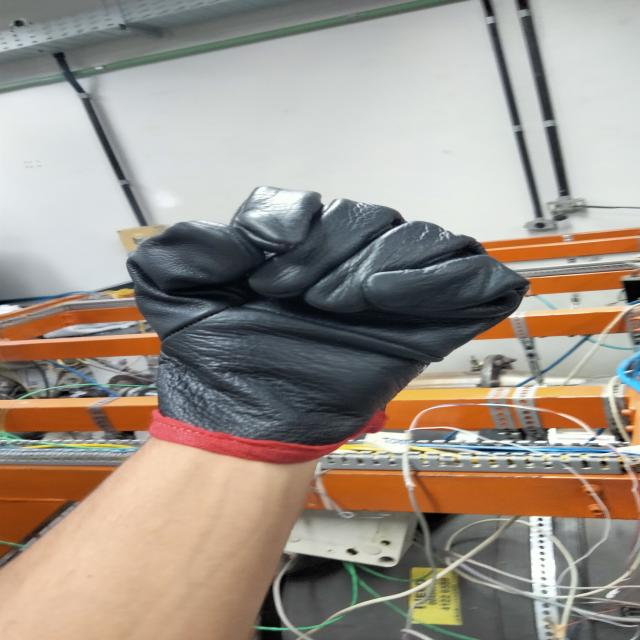Gloves: (118, 180, 515, 460)
